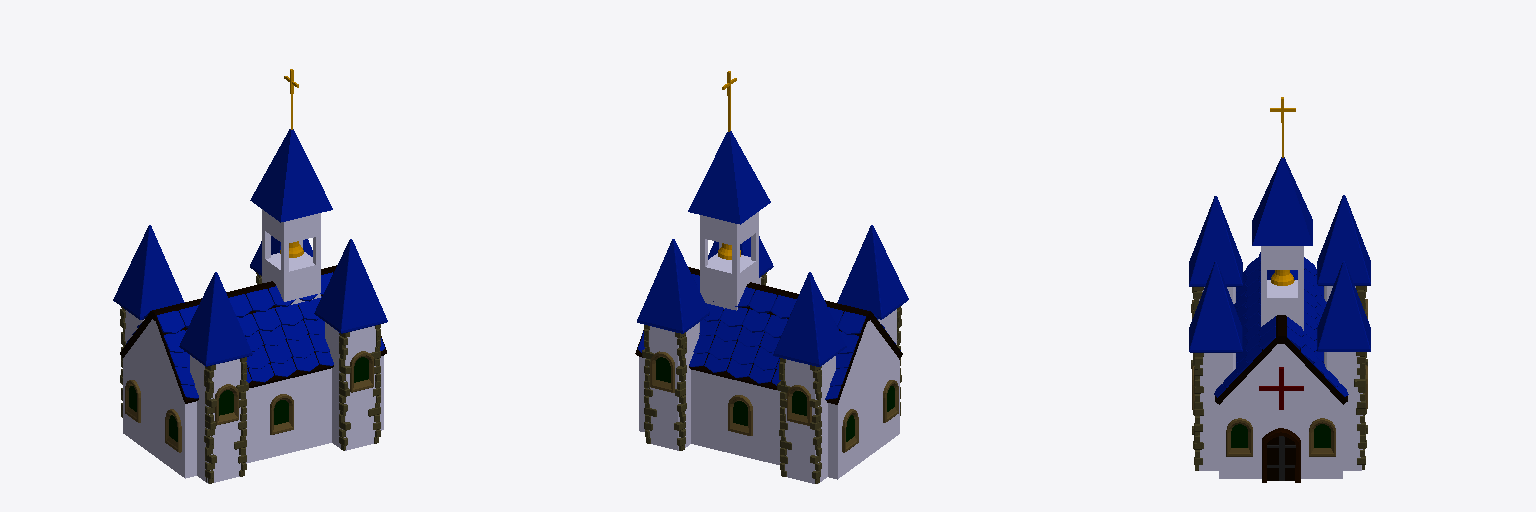
File: Church_BlueTeam.obj
The picture shows the model from 3 angles: view 1: azimuth 30°, elevation 25°; view 2: azimuth 150°, elevation 25°; view 3: azimuth 270°, elevation 25°; orthographic projection.
Parts seen in each view (by area): view 1: Church_BlueTeam_Cube.002; view 2: Church_BlueTeam_Cube.002; view 3: Church_BlueTeam_Cube.002.
Boxes of the visible parts, box(x1,y1,x2,y2) form: Church_BlueTeam_Cube.002: box(113, 69, 387, 483); Church_BlueTeam_Cube.002: box(635, 71, 908, 483); Church_BlueTeam_Cube.002: box(1189, 97, 1370, 482).
Bounding box in the file's own units: 33.49 × 54.07 × 25.31.